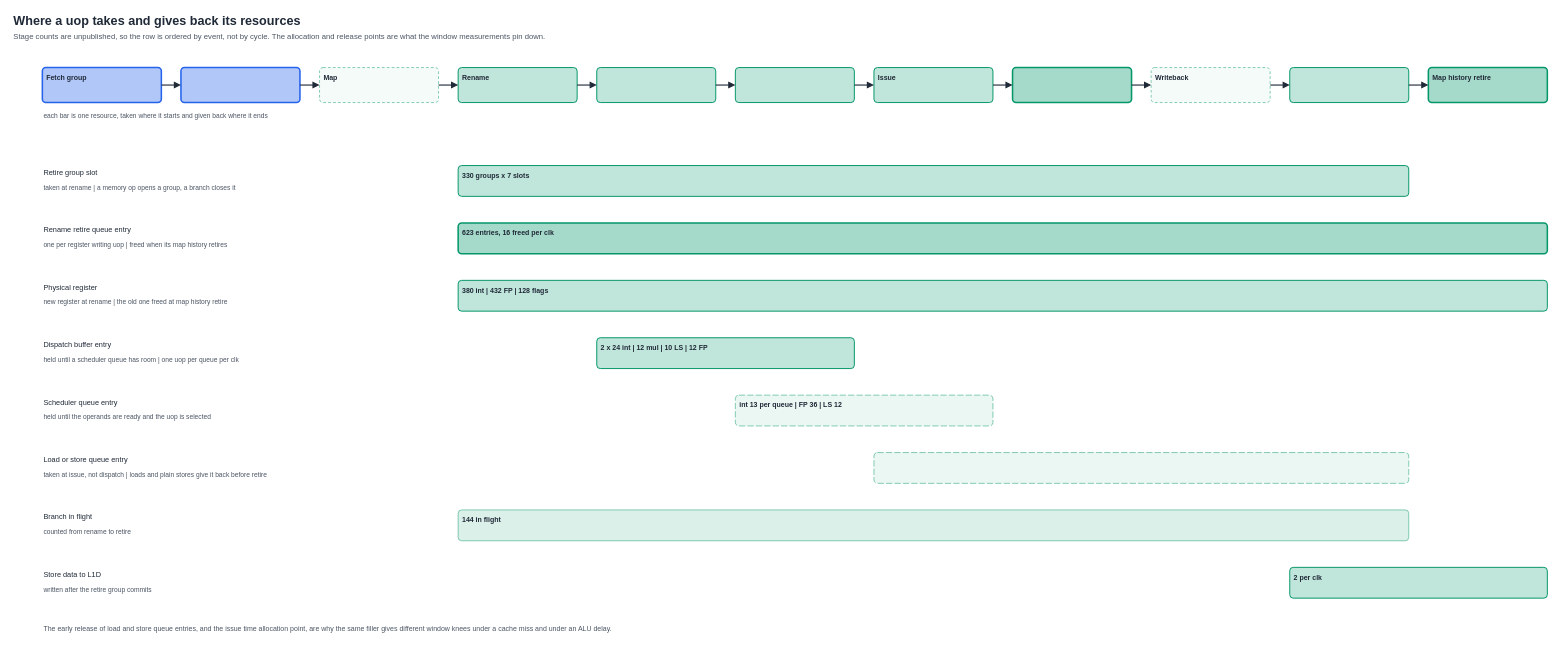
The diagram is 1560 pixels wide and 647 high, and some of its shapes have lost their labels. The shapes that lost their labels are listed below. From the top down, each one's centre as x and y in pixels, then its label:
At (240,84): "Decode".
At (656,85): "Dispatch buffer".
At (794,85): "Scheduler queue".
At (1071,84): "Execute".
At (1349,85): "Retire group".
At (1141,467): "130 loads | 60 stores".
